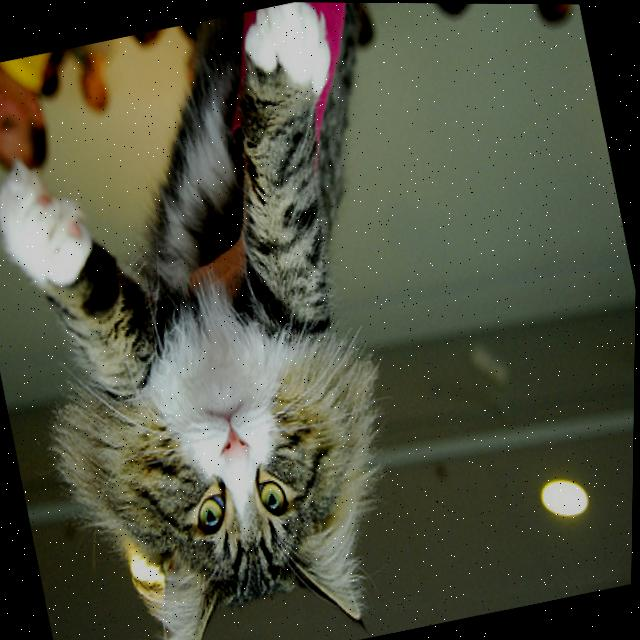Maine Coon: (0, 0, 492, 640)
